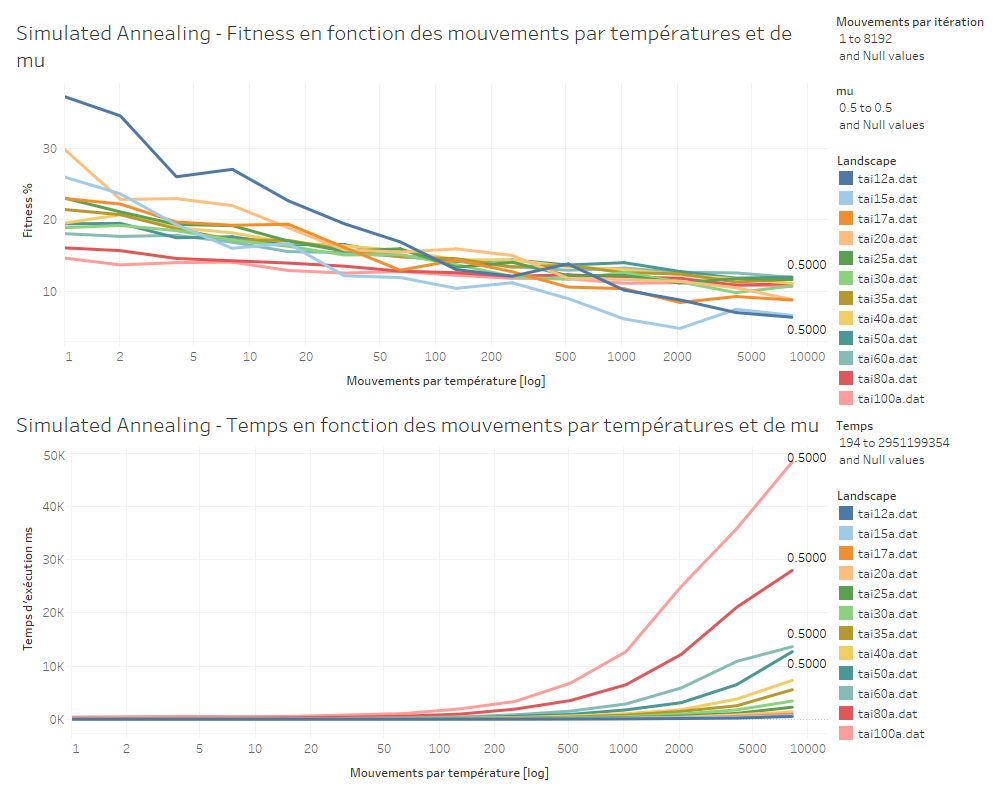

What the dashboard file says about the page in this screenshot:
{"tool":"tableau","page":{"name":"Simulated Annealing","canvas":[1000,800],"ordinal":2},"visuals":[{"type":"worksheet","title":"Simulated Annealing - Fitness","mark":"Line","rows":["Calculation_1762314897165549572"],"cols":["F7"],"box":[8,8,824,392]},{"type":"filter","title":"Simulated Annealing - Fitness","param":"[federated.11cgvjm1dvso7714uon5j07z6p7i].[none:F7:qk]","box":[832,8,160,69]},{"type":"filter","title":"Simulated Annealing - Fitness","param":"[federated.11cgvjm1dvso7714uon5j07z6p7i].[none:F5:qk]","box":[832,77,160,69]},{"type":"legend","title":"Simulated Annealing - Fitness","param":"[federated.11cgvjm1dvso7714uon5j07z6p7i].[none:F1:nk]","box":[832,146,160,86]},{"type":"filter","title":"Simulated Annealing - Temps","param":"[federated.11cgvjm1dvso7714uon5j07z6p7i].[none:F11:qk]","box":[832,232,160,69]},{"type":"legend","title":"Simulated Annealing - Temps","param":"[federated.11cgvjm1dvso7714uon5j07z6p7i].[none:F1:nk]","box":[832,301,160,86]},{"type":"worksheet","title":"Simulated Annealing - Temps","mark":"Line","rows":["Calculation_1762314897165619205"],"cols":["F7"],"box":[8,400,824,392]}]}

Visuals, with their boxes in screenshot pixels (x1, y1, x2, y2), scaled from the page's 1000x800 canvas onto the 1000x800 screenshot:
"Simulated Annealing - Fitness" worksheet (Line marks): 8,8,832,400
"Simulated Annealing - Fitness" filter: 832,8,992,77
"Simulated Annealing - Fitness" filter: 832,77,992,146
"Simulated Annealing - Fitness" legend: 832,146,992,232
"Simulated Annealing - Temps" filter: 832,232,992,301
"Simulated Annealing - Temps" legend: 832,301,992,387
"Simulated Annealing - Temps" worksheet (Line marks): 8,400,832,792
